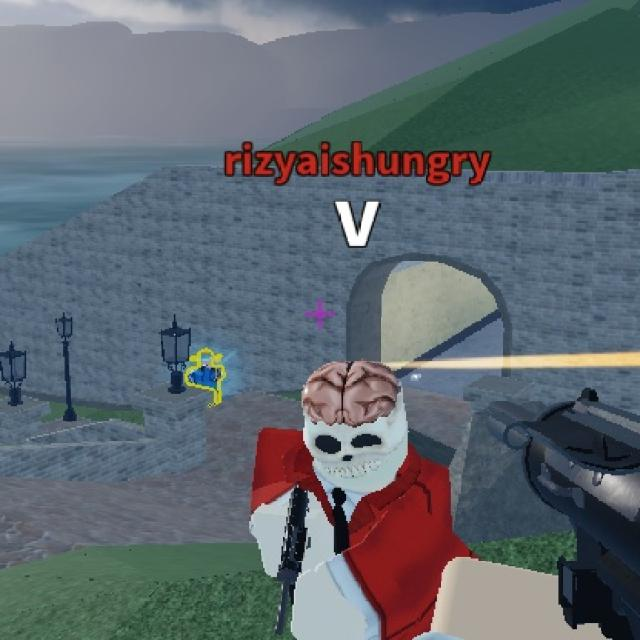player: (186, 344, 222, 389)
